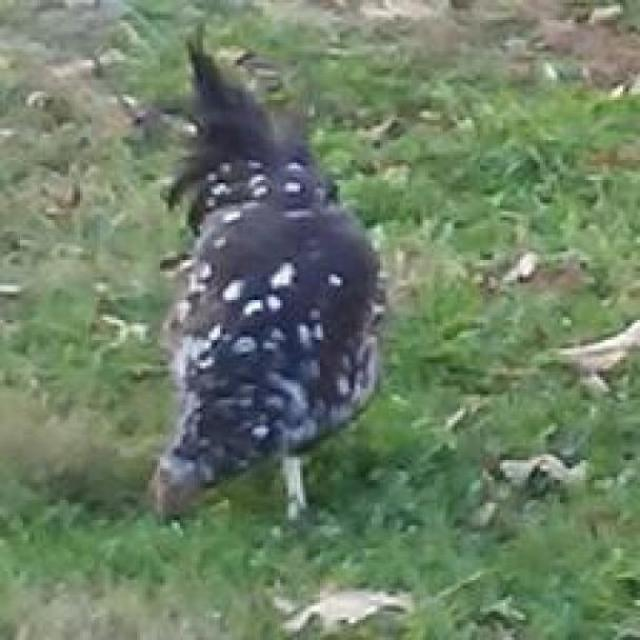Chicken: (87, 19, 473, 555)
